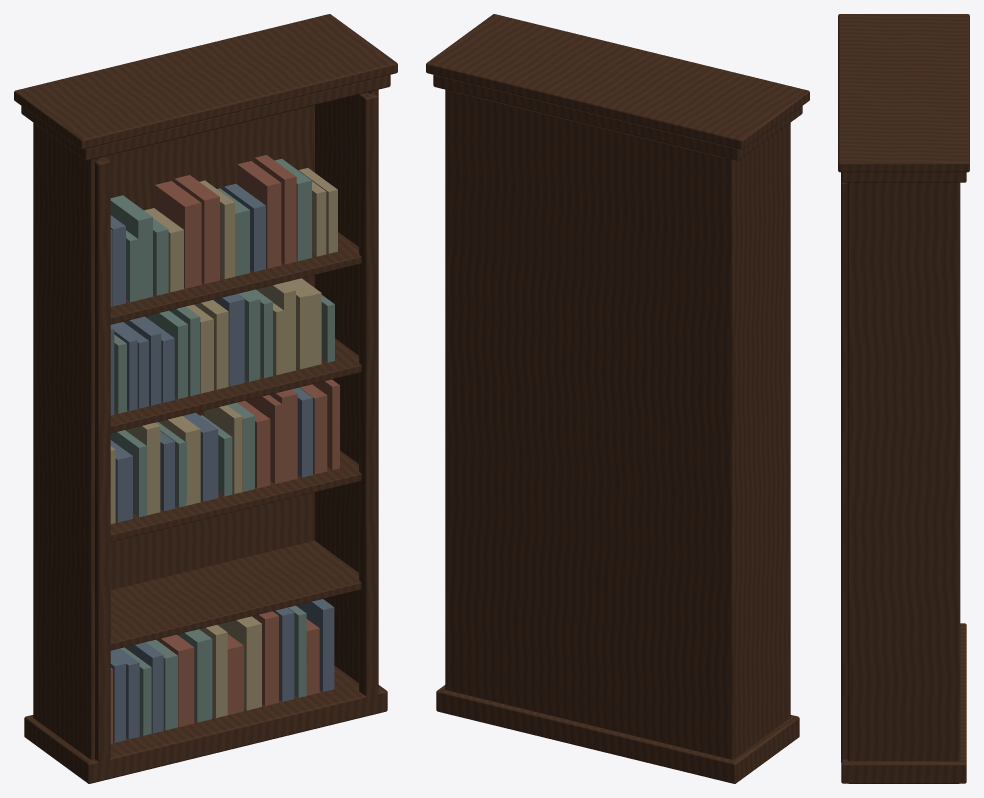
File: FUR_Bookcase.fbx
The picture shows the model from 3 angles, left to right: view 1: azimuth 30°, elevation 25°; view 2: azimuth 150°, elevation 25°; view 3: azimuth 270°, elevation 25°; orthographic projection. The views are drawn at different scales.
Parts seen in each view (by area): view 1: Bookcase_Body; view 2: Bookcase_Body; view 3: Bookcase_Body.
Boxes of the visible parts, x1=… form: Bookcase_Body: x1=14, y1=14, x2=397, y2=783; Bookcase_Body: x1=426, y1=14, x2=809, y2=783; Bookcase_Body: x1=838, y1=14, x2=969, y2=783.
Bounding box in the file's own units: 110 × 216 × 41.
